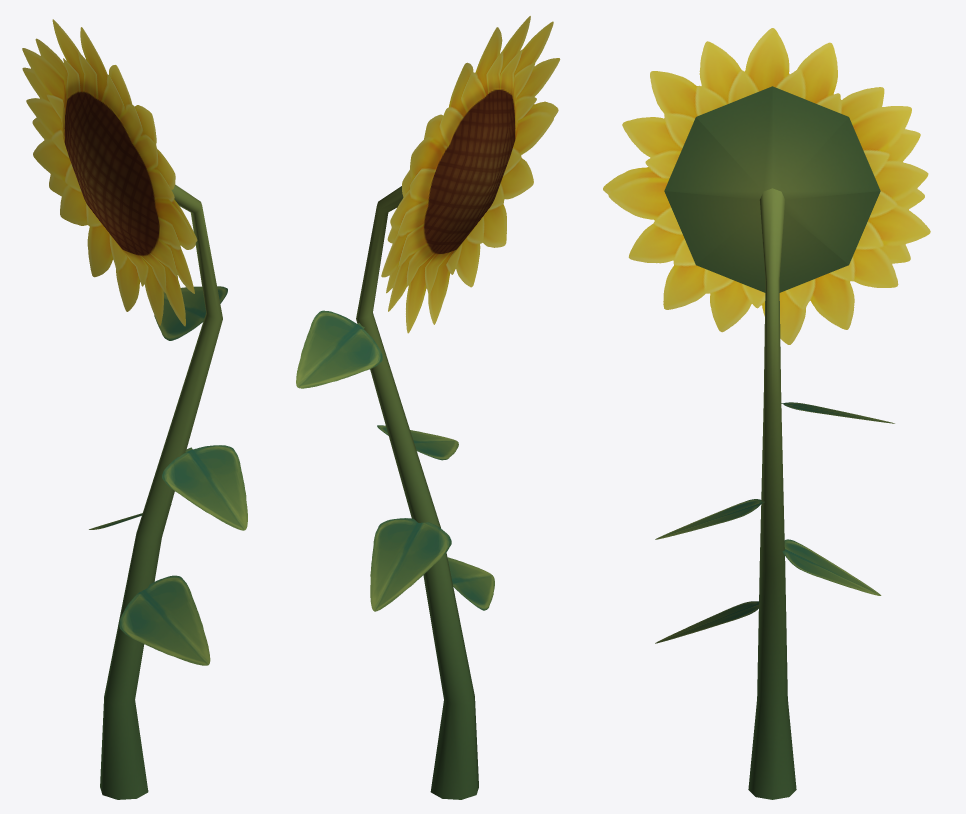
File: Sun Flower.fbx
3 renders of one model, left to right at view 1: azimuth 30°, elevation 25°; view 2: azimuth 150°, elevation 25°; view 3: azimuth 270°, elevation 25°, orthographic. The views are drawn at different scales.
Visible parts, largest first — view 1: Sun Flower; view 2: Sun Flower; view 3: Sun Flower.
Part boxes in pixels (bbox=[...]): Sun Flower: bbox=[22, 19, 247, 799]; Sun Flower: bbox=[296, 16, 560, 799]; Sun Flower: bbox=[603, 28, 930, 799].
Bounding box in the file's own units: 38.79 × 162 × 69.88.
1 material, 1 textured.
